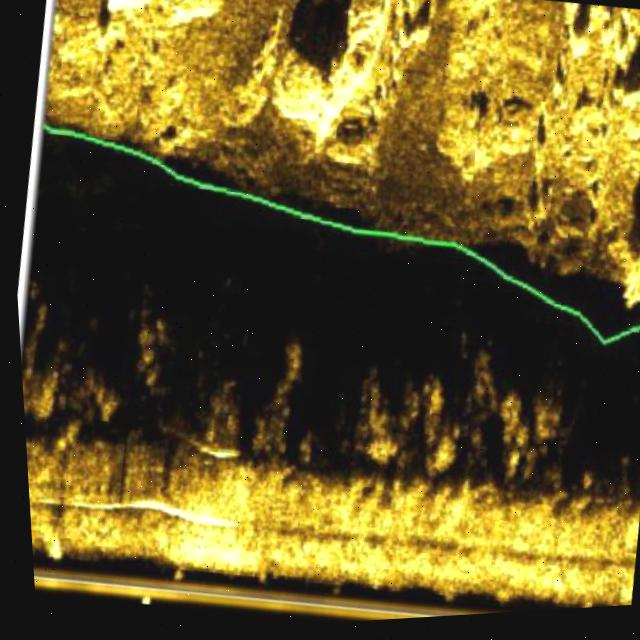bedrock group: (15, 0, 640, 340)
